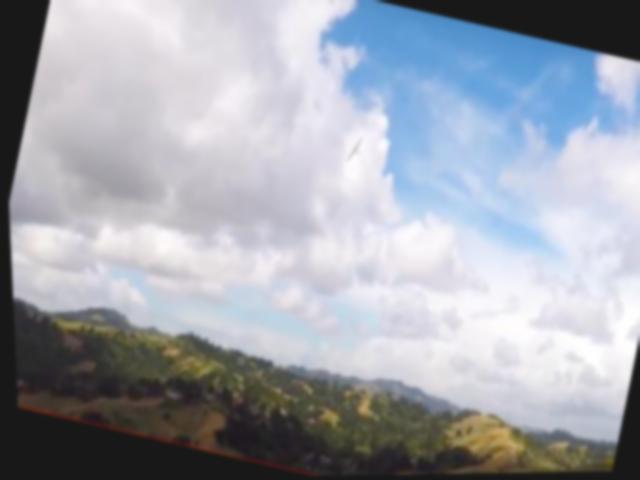iha: (342, 136, 363, 165)
